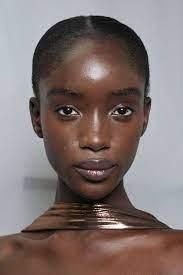Oily-Skin: (73, 54, 118, 88), (87, 107, 106, 142)
